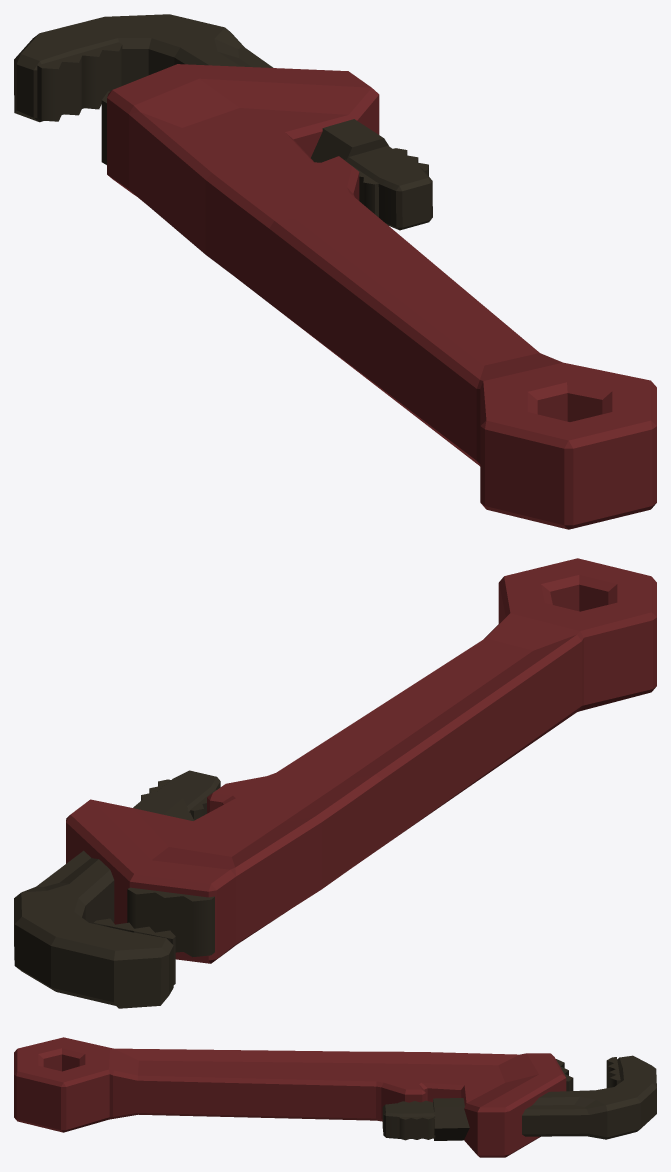
File: gaskey.fbx
3 renders of one model, top to bottom at view 1: azimuth 30°, elevation 25°; view 2: azimuth 150°, elevation 25°; view 3: azimuth 270°, elevation 25°, orthographic. The views are drawn at different scales.
Visible parts, largest first — view 1: polySurface44; view 2: polySurface44; view 3: polySurface44.
Boxes of the visible parts, x1,y1,x2,y2 form: polySurface44: (14,14,656,529); polySurface44: (14,558,656,1008); polySurface44: (14,1037,656,1157).
Bounding box in the file's own units: 0.2486 × 0.0802 × 0.9307.
